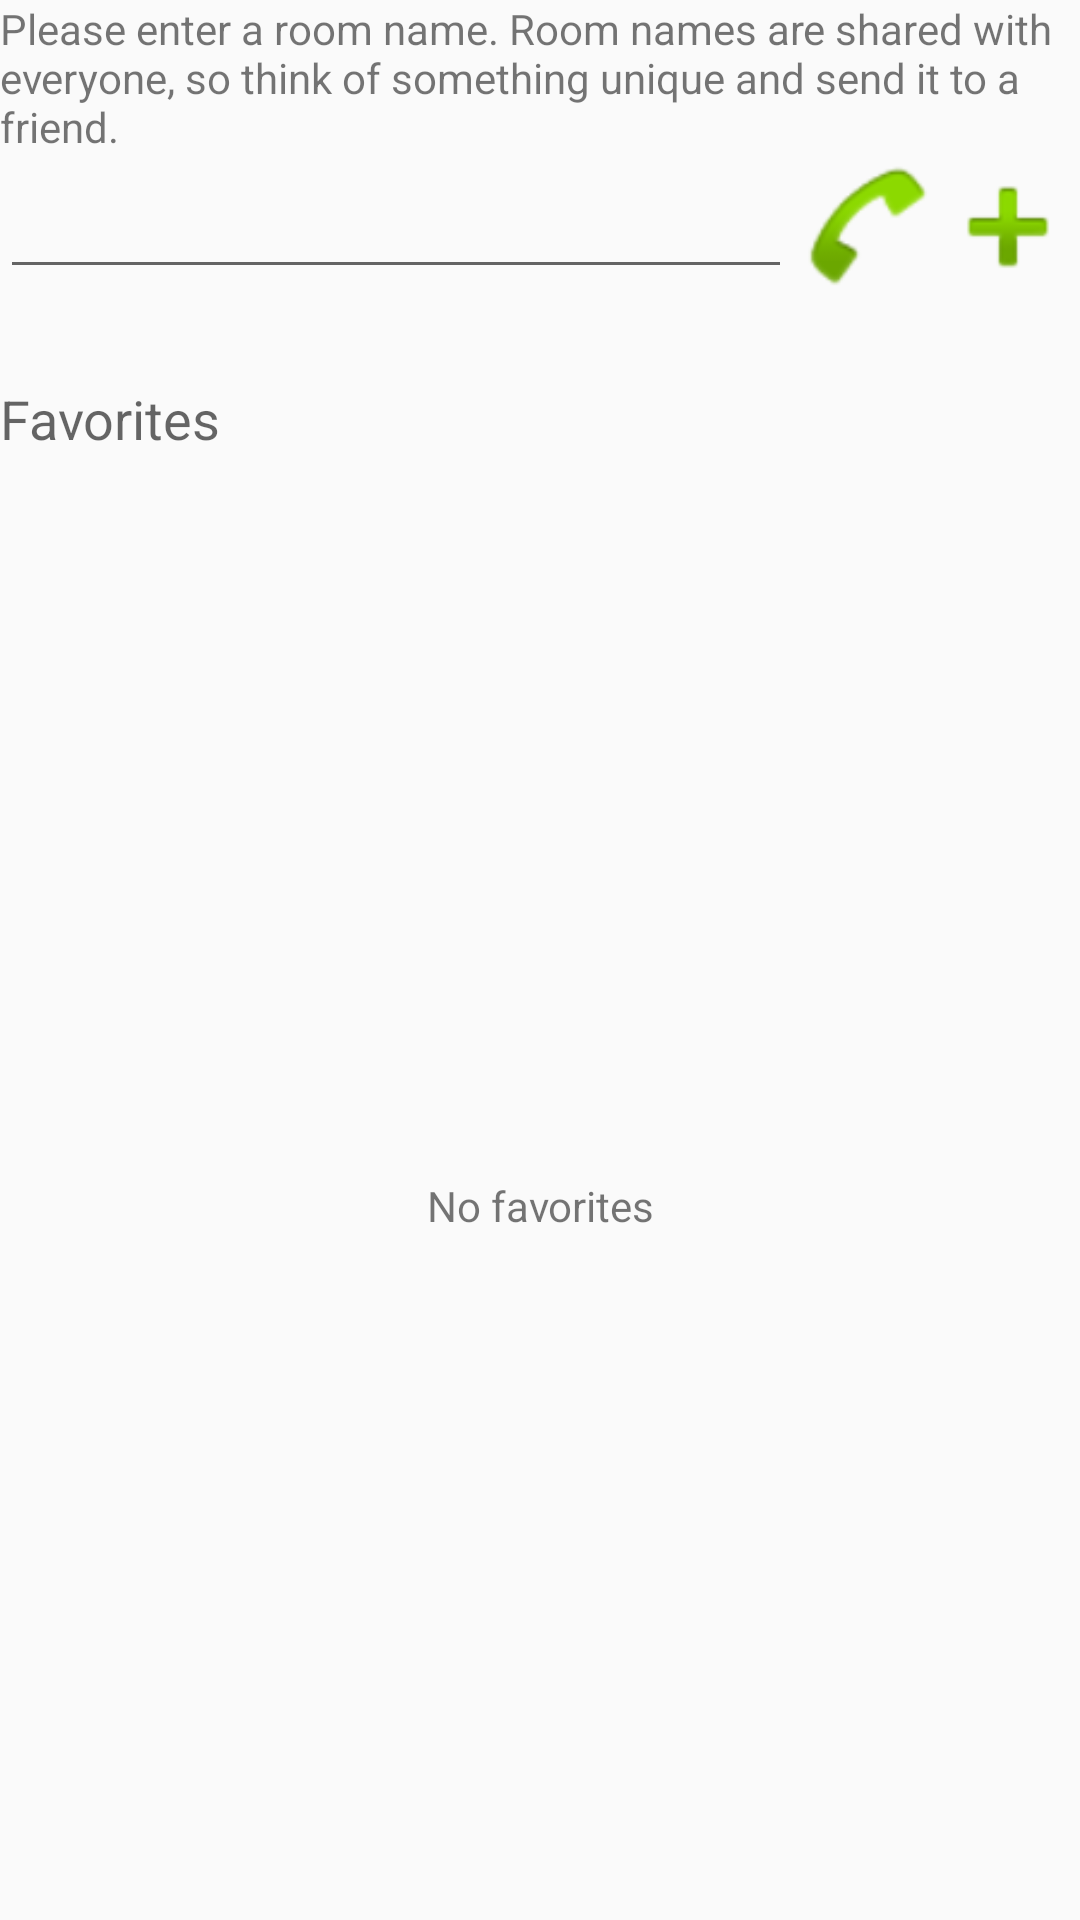

Locate icon controls on the screen. Image size 1080px x 1920px, boxes as (x1, y1, x2, y2).
Add favorite: (967, 186, 1049, 268)
Connect to the room: (810, 168, 926, 285)
